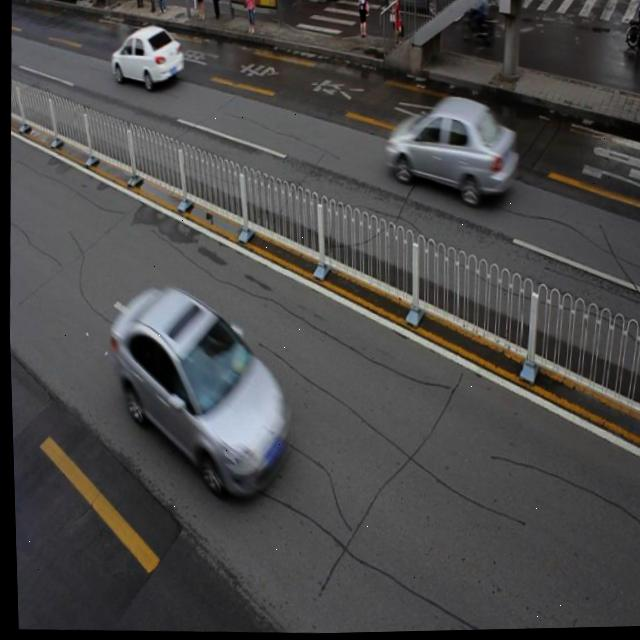car: (104, 284, 292, 499), (383, 94, 518, 204), (108, 22, 186, 92)
